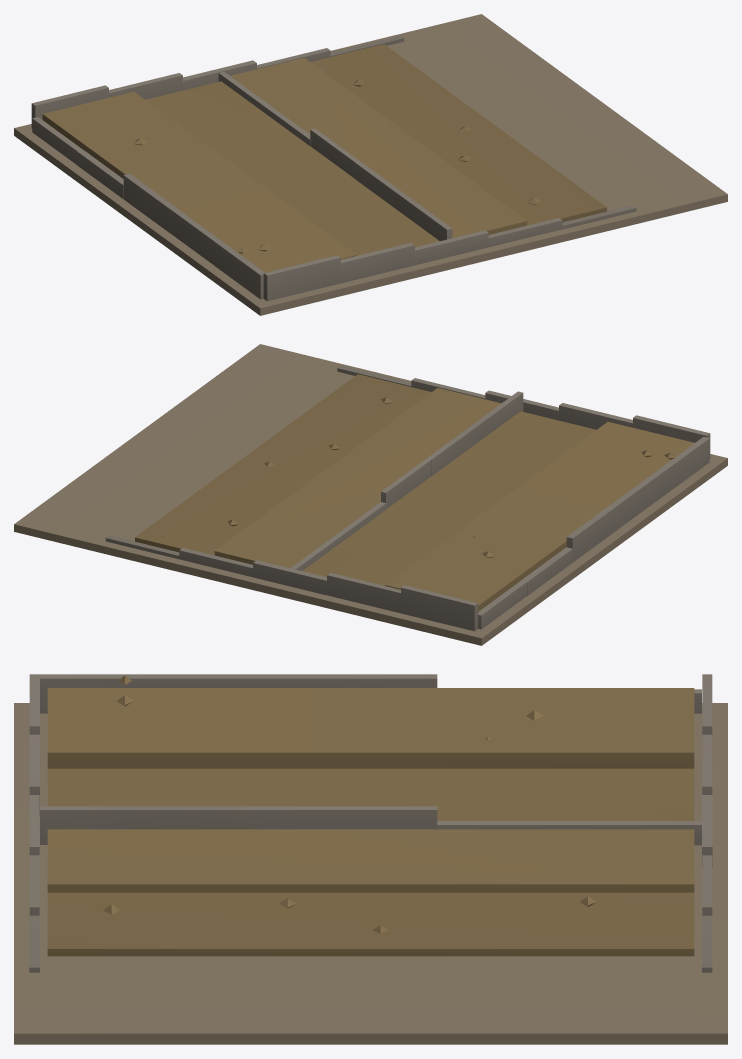
The model's file is caral_pyramid_mayor_phase1_lod1.glb.
The picture shows the model from 3 angles, top to bottom: view 1: azimuth 30°, elevation 25°; view 2: azimuth 150°, elevation 25°; view 3: azimuth 270°, elevation 25°; orthographic projection. The views are drawn at different scales.
Parts seen in each view (by area): view 1: GEO-Arch_pyramid_mayor_phase1_LOD1; view 2: GEO-Arch_pyramid_mayor_phase1_LOD1; view 3: GEO-Arch_pyramid_mayor_phase1_LOD1.
Boxes of the visible parts, x1,y1,x2,y2 form: GEO-Arch_pyramid_mayor_phase1_LOD1: (14, 14, 727, 315); GEO-Arch_pyramid_mayor_phase1_LOD1: (14, 344, 727, 645); GEO-Arch_pyramid_mayor_phase1_LOD1: (14, 674, 727, 1044).
Size of the model in its own units: 45.4 by 3.36 by 41.4.
